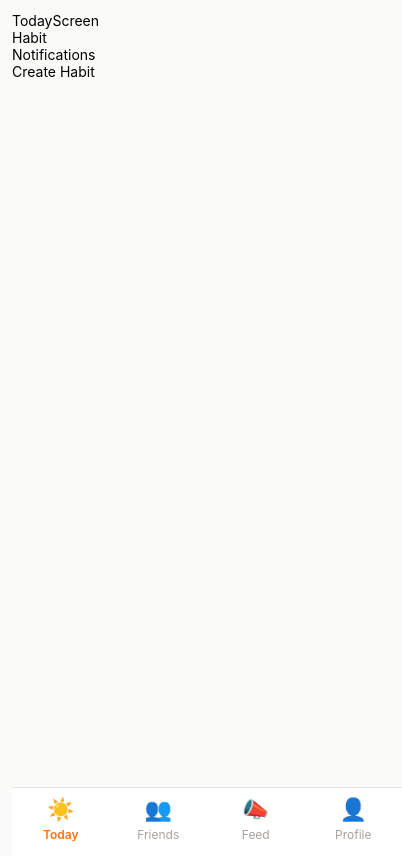
it: RootNavigator › switches to Profile tab
What coordinates should you click on to do the following:
click the tab with test id "tab-profile"
I would click on:
 (353, 819)
Its box is [335, 796, 371, 842].
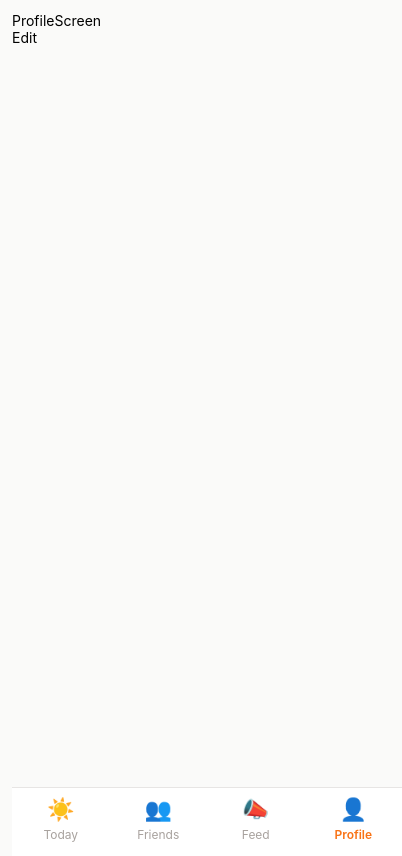
Expected: the element with test id "profile-screen" is shown, [12, 12, 101, 46]
